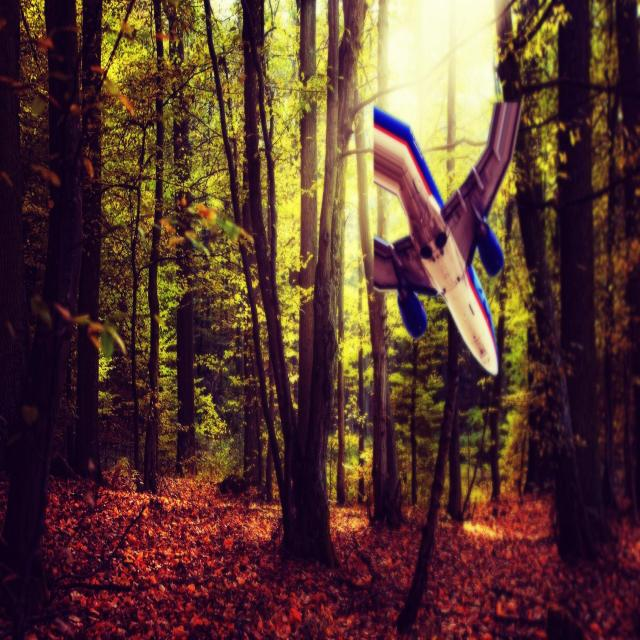airplane: (370, 97, 522, 377)
